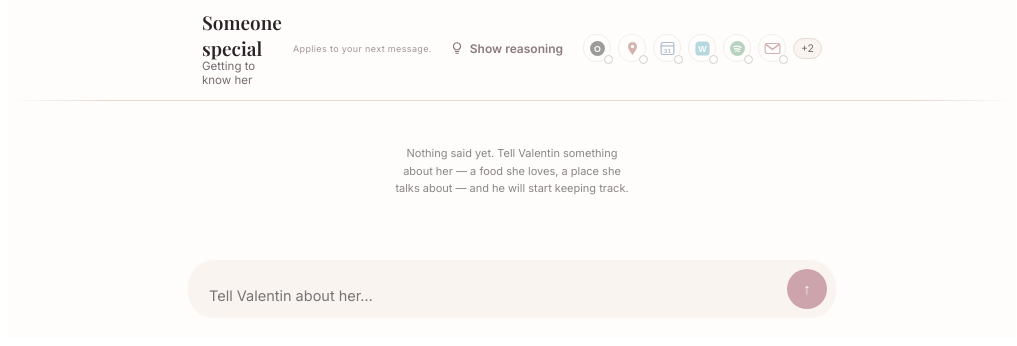
Test case: ChatPanel — what a turn carries › sends the id the transcript is already rendering
Type "She's obsessed with peonies" into the text box named "Type a message" at (492, 295), box top-left (207, 282), bottom-right (777, 309)
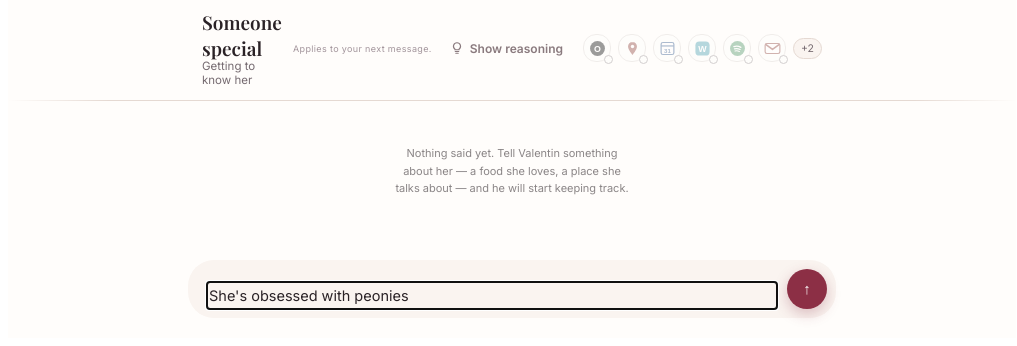
Click the button named "Send message" at (807, 289), box top-left (787, 269), bottom-right (827, 309)
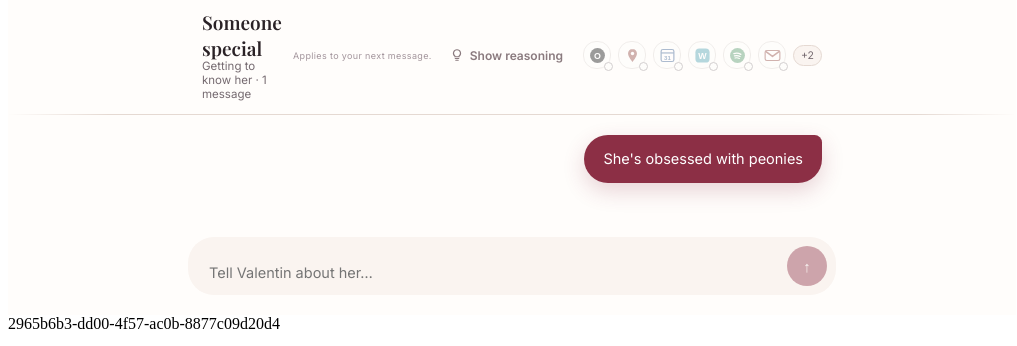
Result: the text "She's obsessed with peonies" is shown at top-left (584, 135), bottom-right (822, 184)
